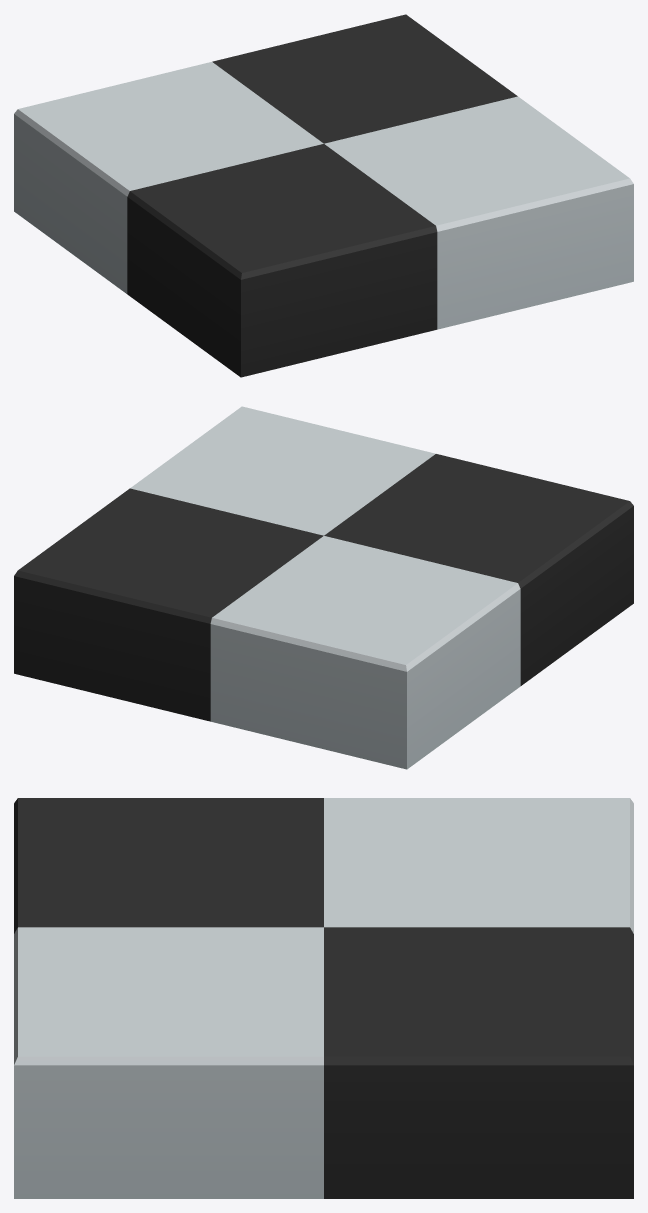
Rendered from floor-kitchen-small.glb.
3 renders of one model, top to bottom at view 1: azimuth 30°, elevation 25°; view 2: azimuth 150°, elevation 25°; view 3: azimuth 270°, elevation 25°, orthographic. The views are drawn at different scales.
Parts seen in each view (by area): view 1: floor_kitchen_small; view 2: floor_kitchen_small; view 3: floor_kitchen_small.
Part boxes in pixels (bbox=[...]): floor_kitchen_small: bbox=[14, 14, 633, 377]; floor_kitchen_small: bbox=[14, 406, 633, 769]; floor_kitchen_small: bbox=[14, 798, 633, 1198].
Size of the model in its own units: 2 by 0.5 by 2.
Materials: 1 (1 with a texture image).
